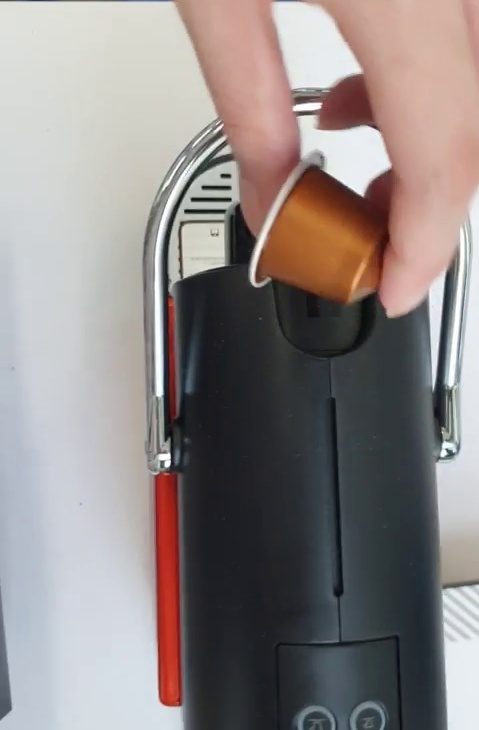capsule_3: (247, 146, 393, 311)
